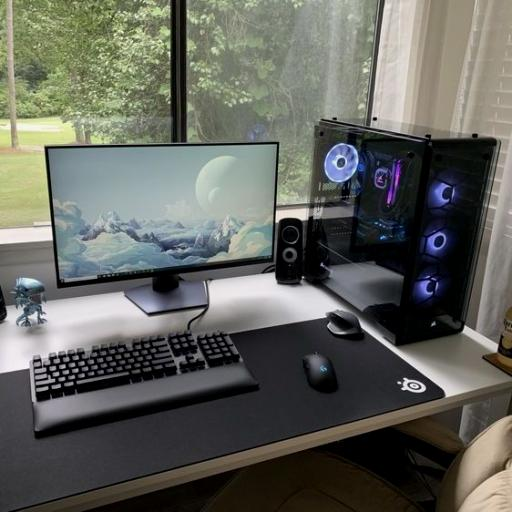computer case: (304, 118, 497, 343)
monitor: (46, 141, 279, 287)
